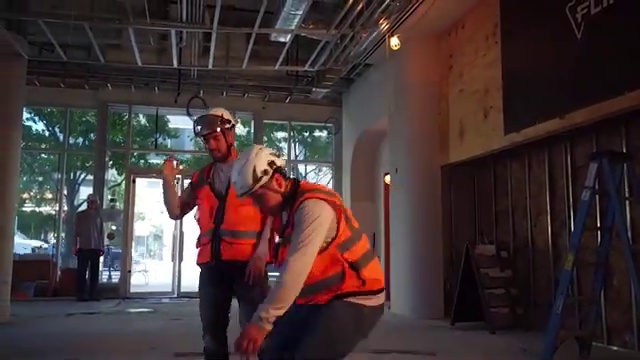helmet: (228, 142, 282, 195), (188, 105, 242, 137)
jacket: (271, 175, 391, 290), (182, 166, 253, 268)
